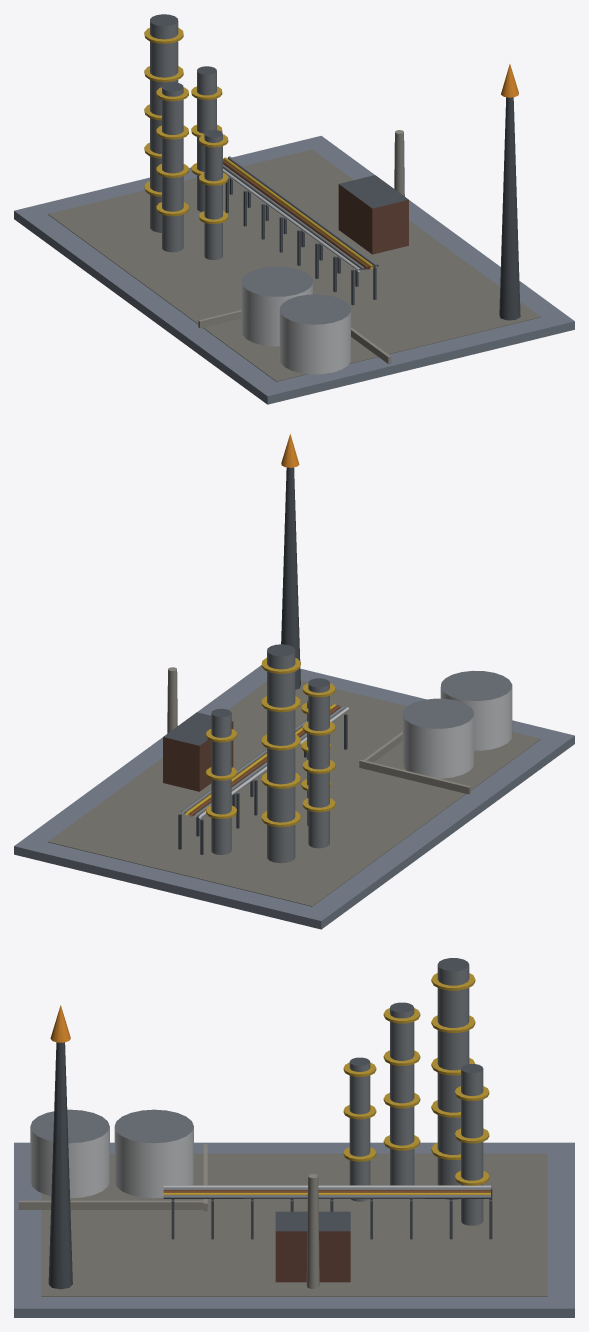
The model's file is refinery.glb.
3 views of the same model, one above another, from view 1: azimuth 30°, elevation 25°; view 2: azimuth 150°, elevation 25°; view 3: azimuth 270°, elevation 25° (orthographic). The views are drawn at different scales.
Parts seen in each view (by area): view 1: refinery; view 2: refinery; view 3: refinery.
Boxes of the visible parts, box(x1,y1,x2,y2) form: refinery: box(14, 14, 574, 404); refinery: box(14, 434, 574, 929); refinery: box(14, 958, 574, 1317).
Size of the model in its own units: 84 by 68.35 by 120.
